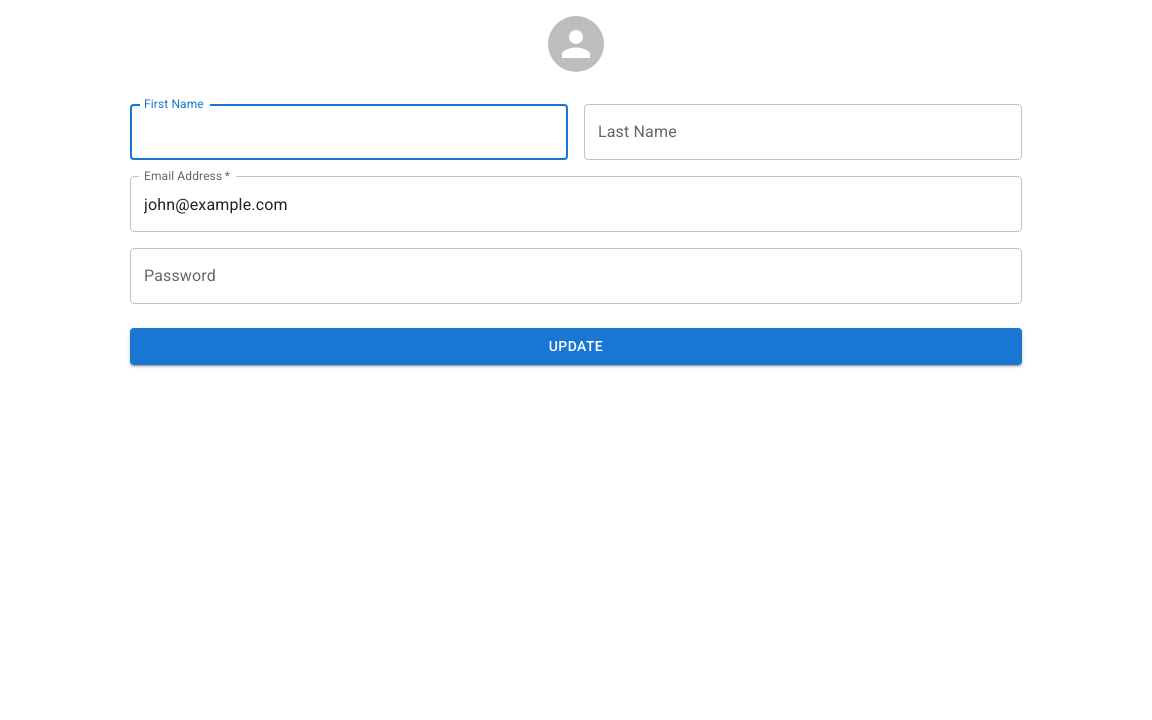
Test case: should handle server errors
This screenshot has width=1152, height=720.
Click the button "Update". click: (576, 346)
box: [130,328,1022,364]
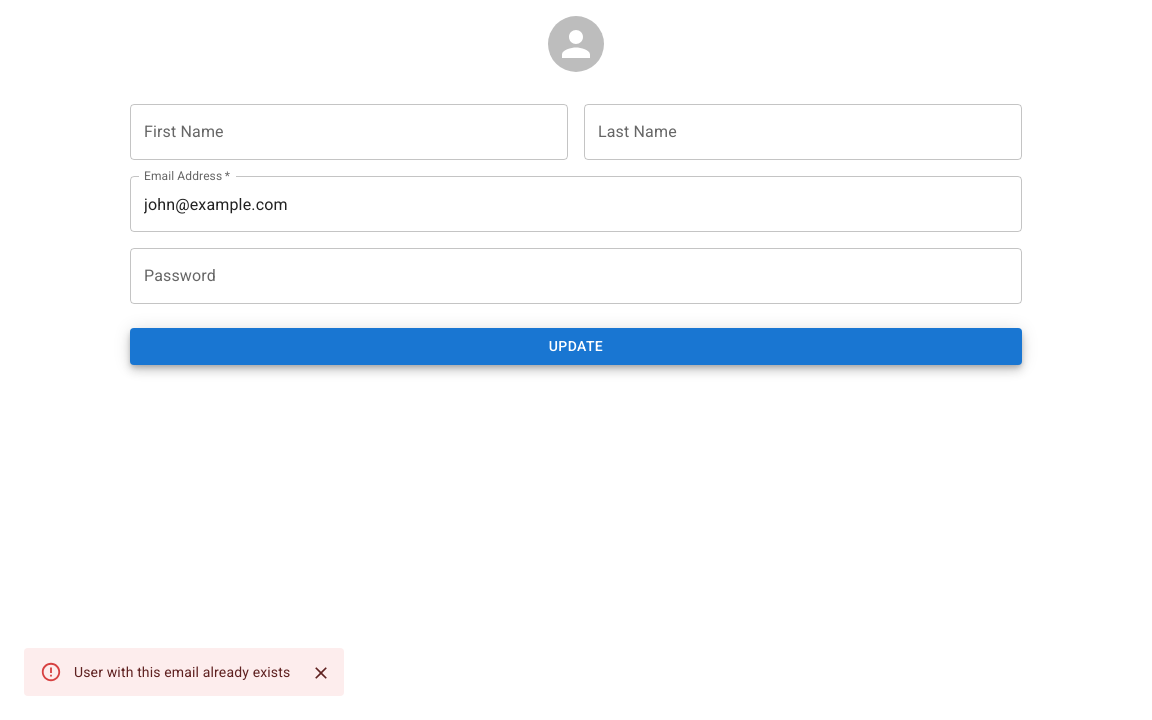
Check: the message reads "User with this email already exists", box [74,664,290,680]
